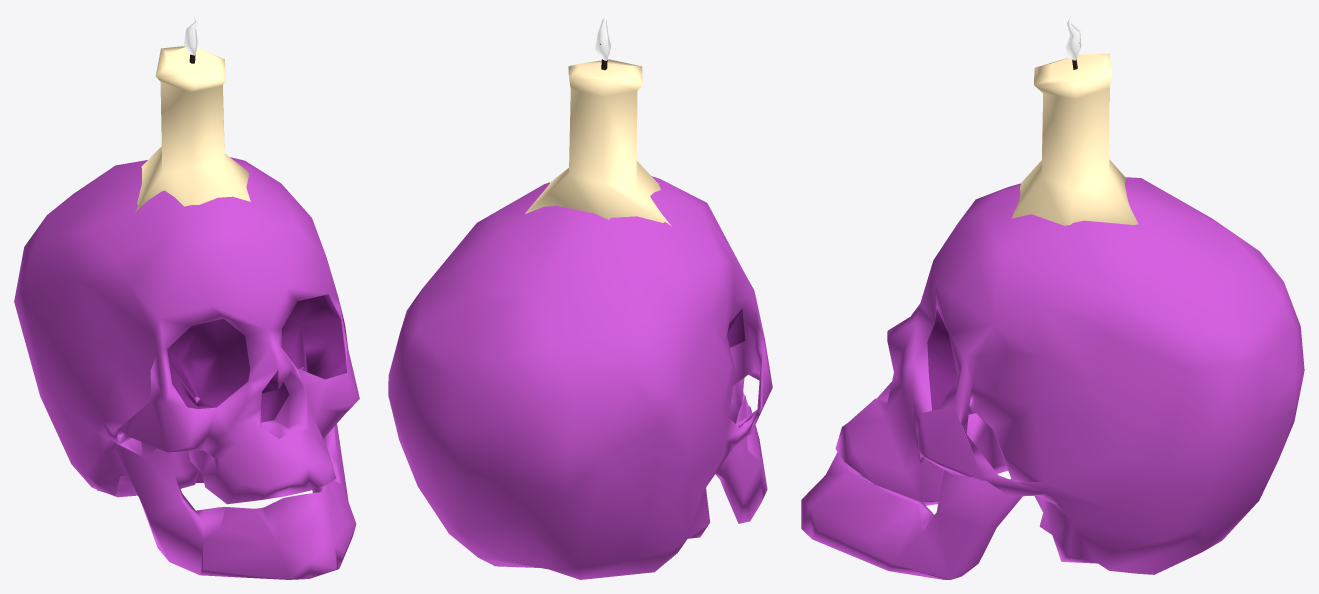
The model's file is CandleSkullShapeB.010.glb.
The picture shows the model from 3 angles, left to right: view 1: azimuth 30°, elevation 25°; view 2: azimuth 150°, elevation 25°; view 3: azimuth 270°, elevation 25°; orthographic projection. The views are drawn at different scales.
Visible parts, largest first — view 1: CandleSkullShapeB.010; view 2: CandleSkullShapeB.010; view 3: CandleSkullShapeB.010.
Boxes of the visible parts, <box> form: CandleSkullShapeB.010: <box>14,14,359,579</box>; CandleSkullShapeB.010: <box>388,14,772,579</box>; CandleSkullShapeB.010: <box>801,14,1304,579</box>.
Bounding box in the file's own units: 0.2005 × 0.3649 × 0.3132.
Materials: 2 (2 with a texture image).
